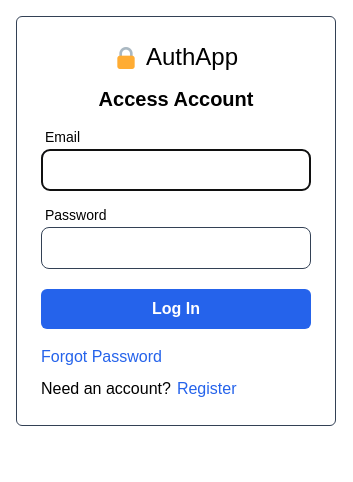
AccountApp › login › validation › validates email
Expected: the heading "AuthApp" is shown, x1=146 y1=41 x2=238 y2=73
Type "notanemail" into the field labelled "Email" at (176, 170), box x1=41 y1=149 x2=311 y2=191
Then press Enter
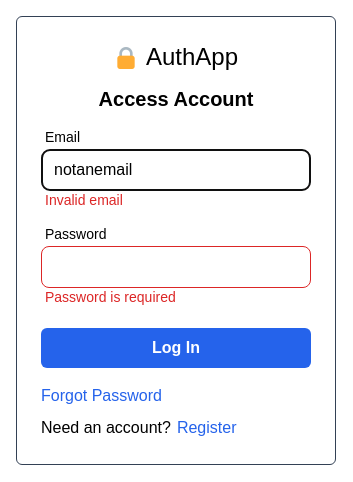
Expected: the text "Invalid email" is shown, x1=45 y1=192 x2=123 y2=208
